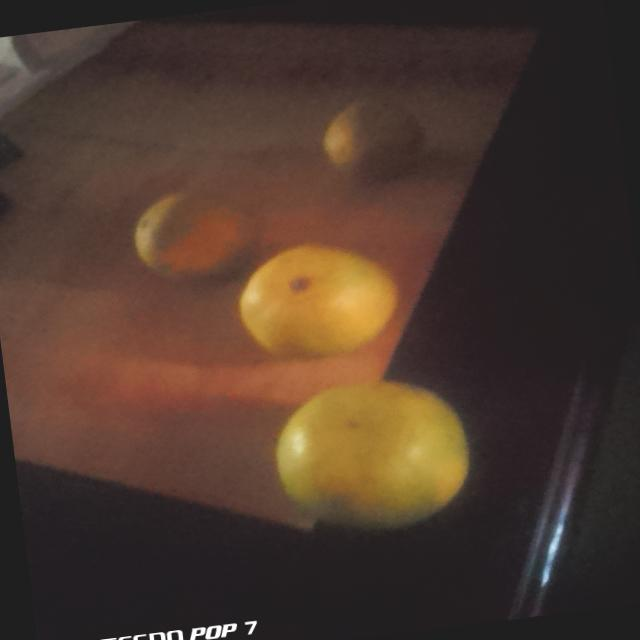Ripe orange: (262, 368, 480, 542), (223, 228, 413, 358), (116, 173, 253, 292), (302, 81, 436, 188)
